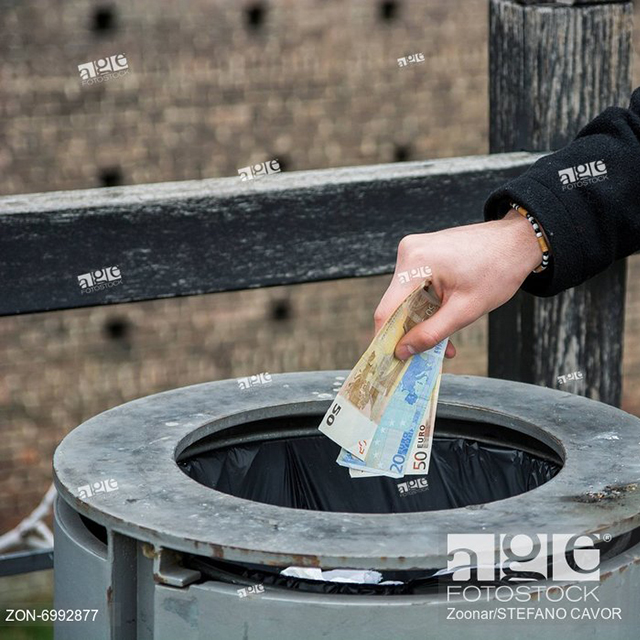banknotes: (318, 288, 447, 479)
